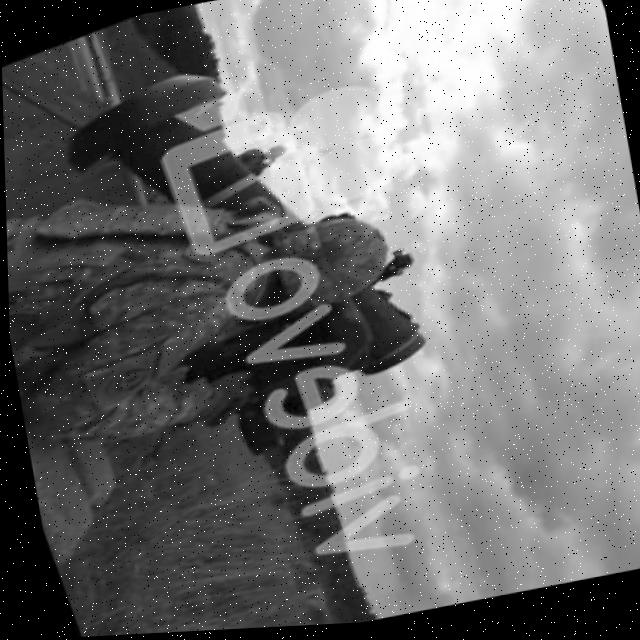rocket: (46, 46, 312, 302)
